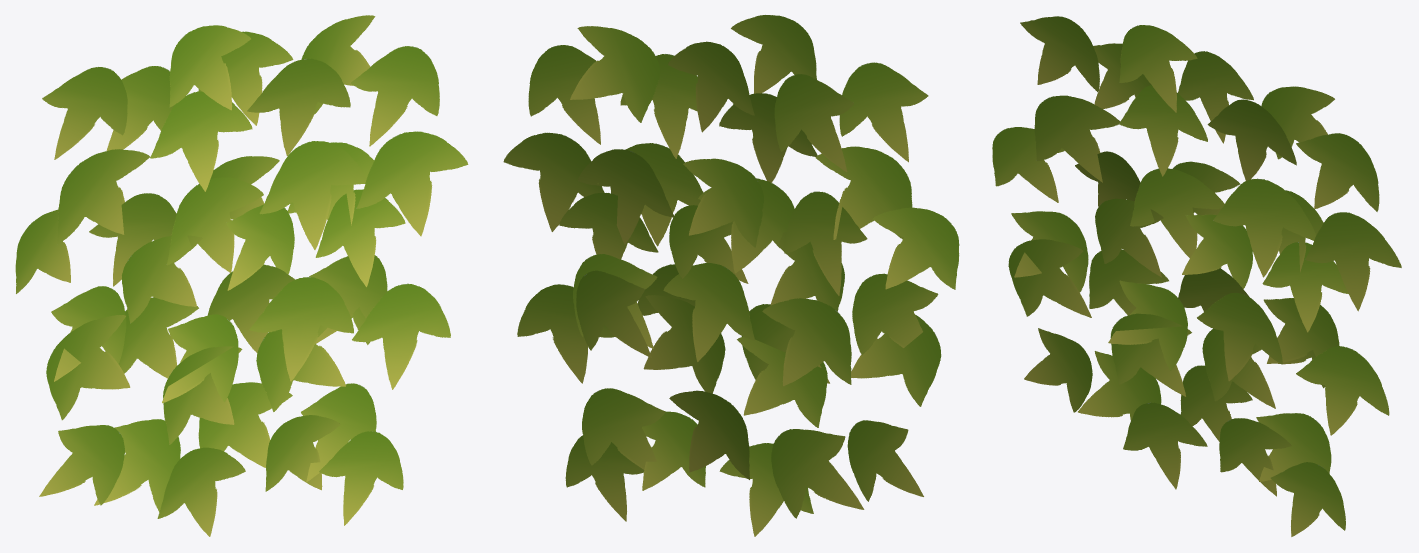
Rendered from ivy_5.fbx.
3 views of the same model, side by side, from view 1: azimuth 30°, elevation 25°; view 2: azimuth 150°, elevation 25°; view 3: azimuth 330°, elevation 25° (orthographic). The views are drawn at different scales.
Visible parts, largest first — view 1: Plane.001; view 2: Plane.001; view 3: Plane.001.
Boxes of the visible parts, bbox=[...] form: Plane.001: bbox=[15, 15, 468, 536]; Plane.001: bbox=[503, 15, 959, 536]; Plane.001: bbox=[992, 16, 1401, 536].
Bounding box in the file's own units: 173 × 196 × 15.13.
